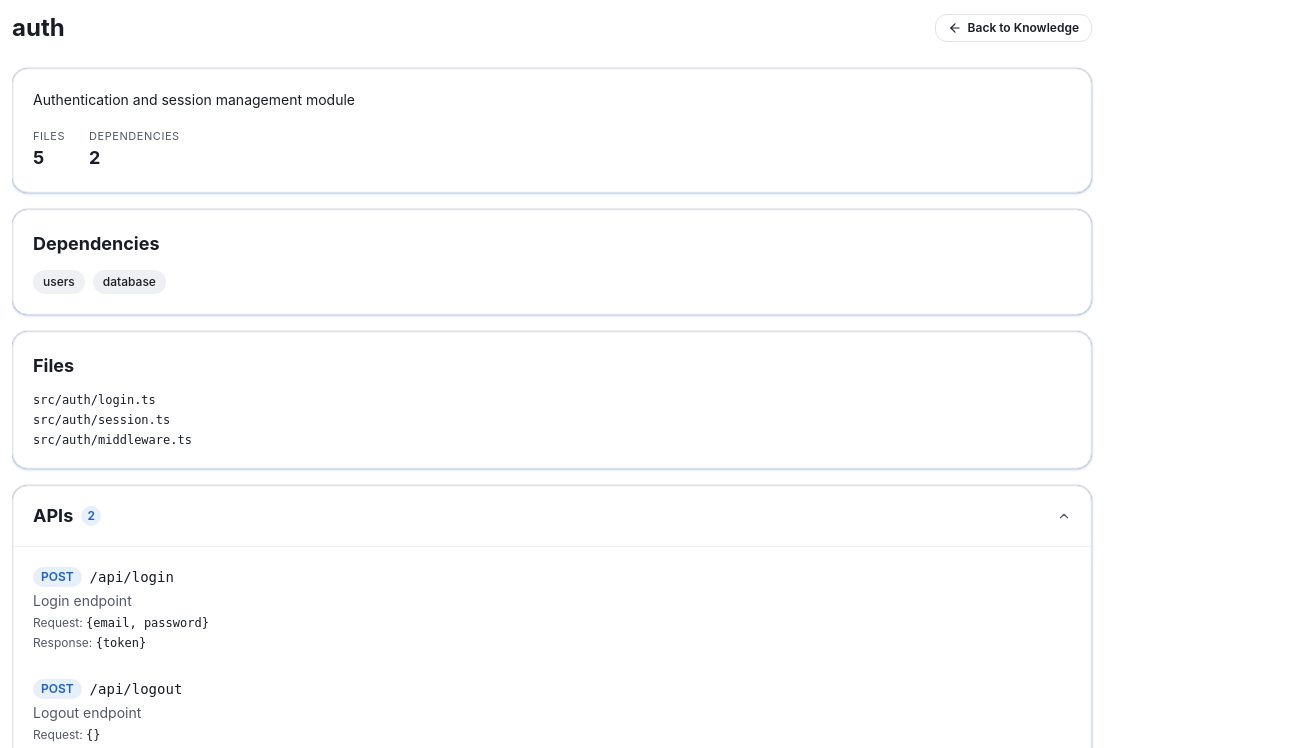
Test case: ModuleDetailPage › expands and collapses populated sections on click
Click the button "APIs 2": x=53, y=516 13,486 -> 1091,546
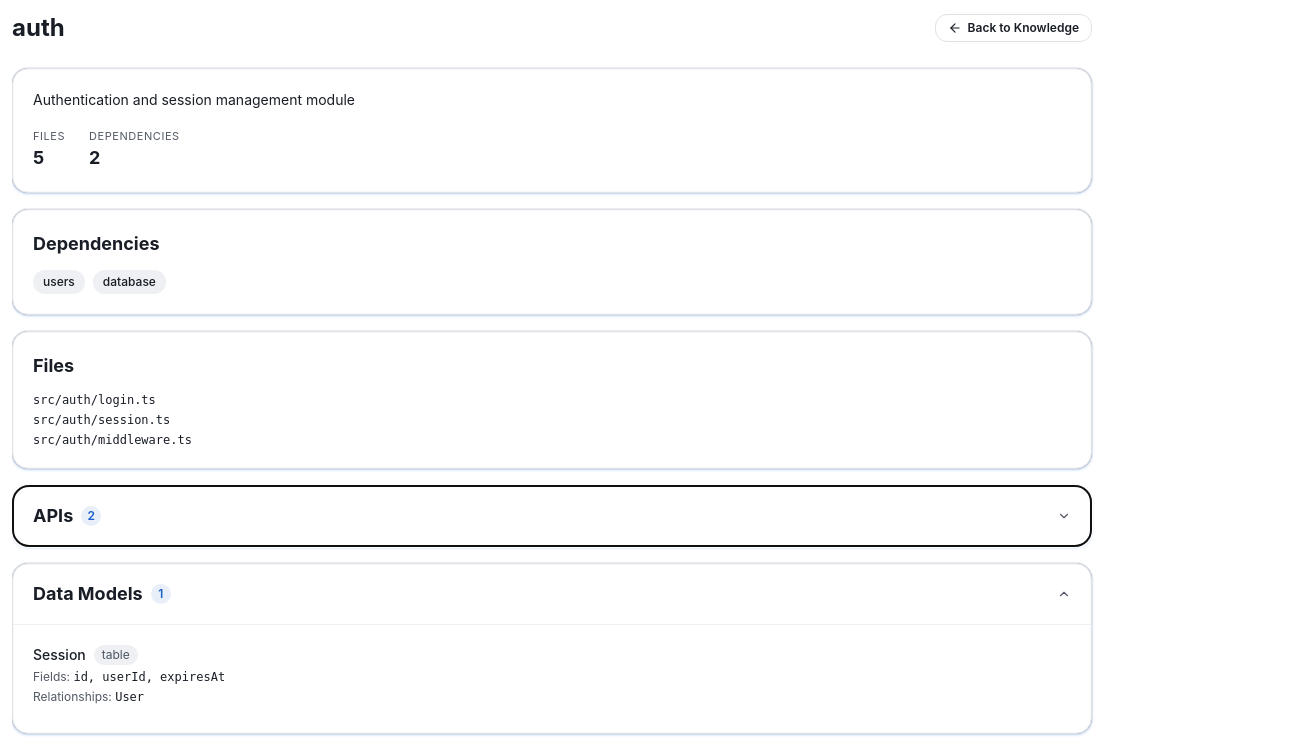
Now the button "APIs 2" is collapsed
Now the text "/api/login" is gone
Click the button "APIs 2": x=53, y=516 13,486 -> 1091,546
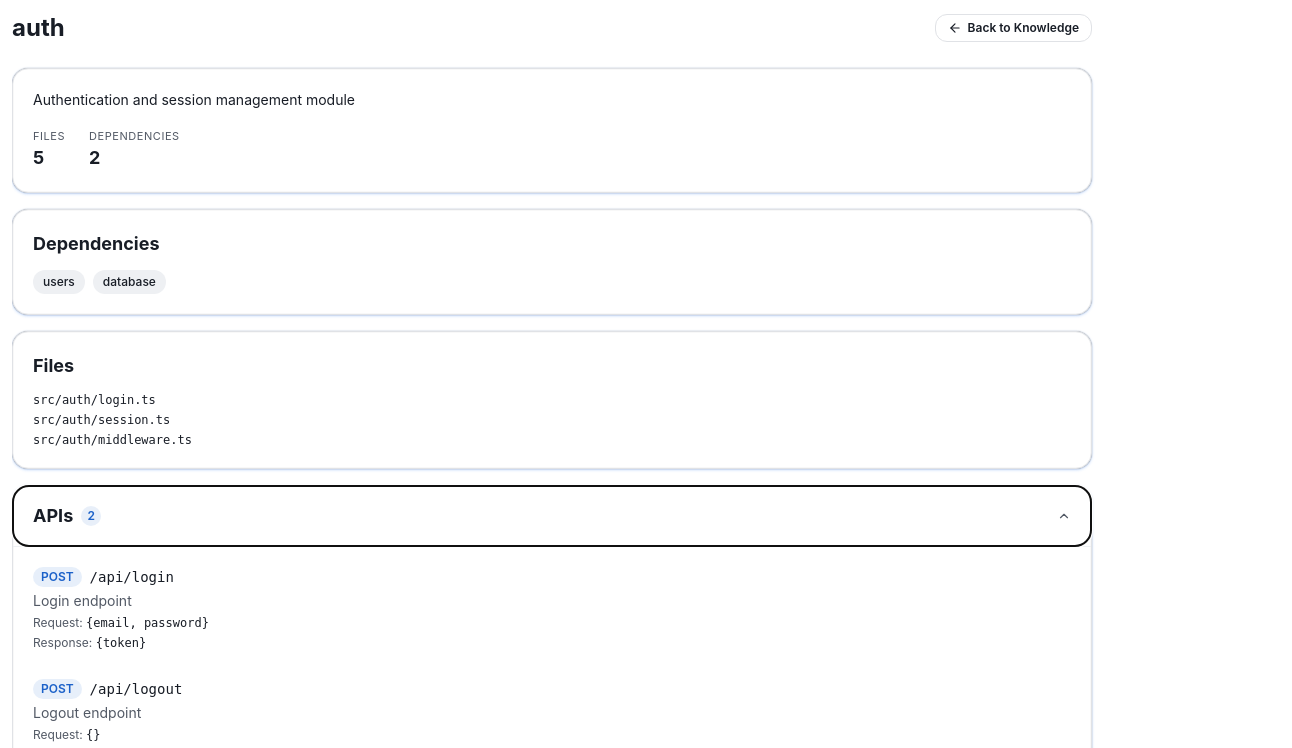
Now the button "APIs 2" is expanded, box 13,486 -> 1091,546
Now the text "/api/login" is shown, box 90,567 -> 174,587
